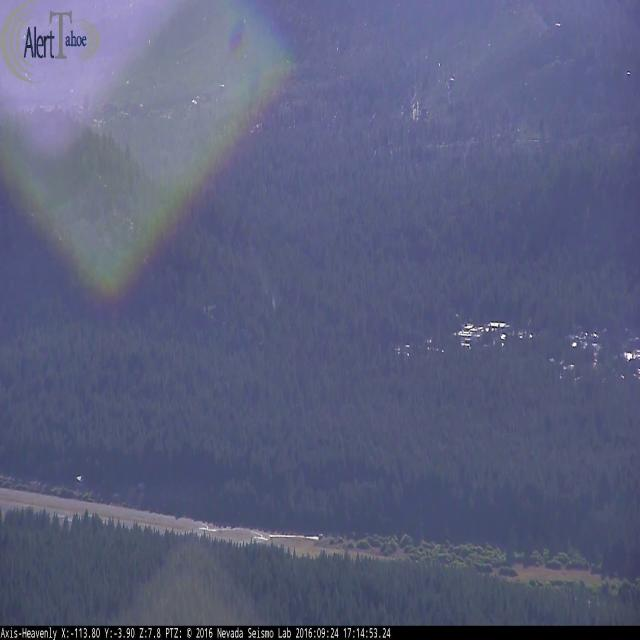smoke: (248, 237, 278, 312)
